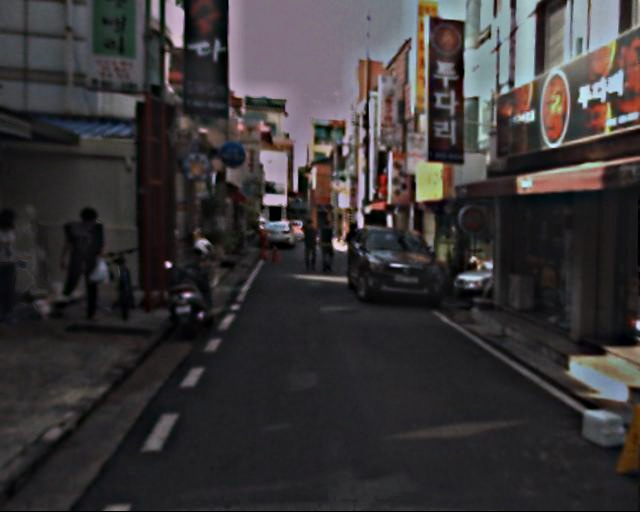person: (62, 204, 119, 323), (1, 207, 46, 321), (299, 219, 322, 274), (316, 219, 338, 272), (343, 223, 363, 272)
